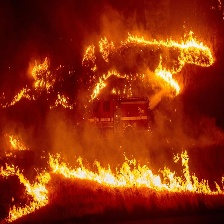fire: (3, 131, 224, 219), (6, 28, 222, 113)
smoke: (53, 121, 224, 157)
